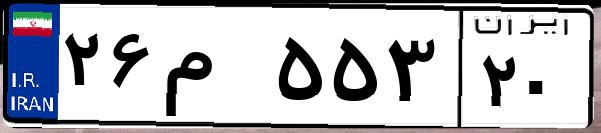0: (525, 38, 570, 115)
2: (57, 26, 110, 100), (475, 38, 525, 113)
3: (385, 28, 445, 110)
5: (270, 28, 330, 110), (330, 28, 385, 110)
6: (110, 28, 158, 98)
م: (158, 20, 270, 120)
